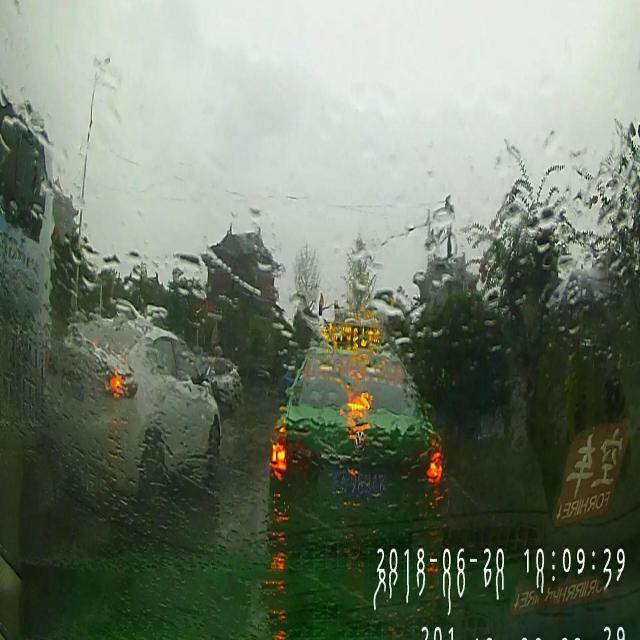car: (267, 320, 448, 542), (45, 314, 224, 508), (198, 357, 240, 413)
